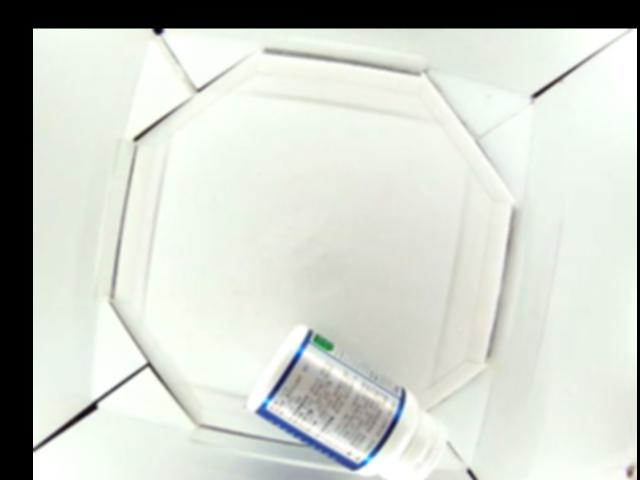Bottle: (244, 325, 448, 480)
